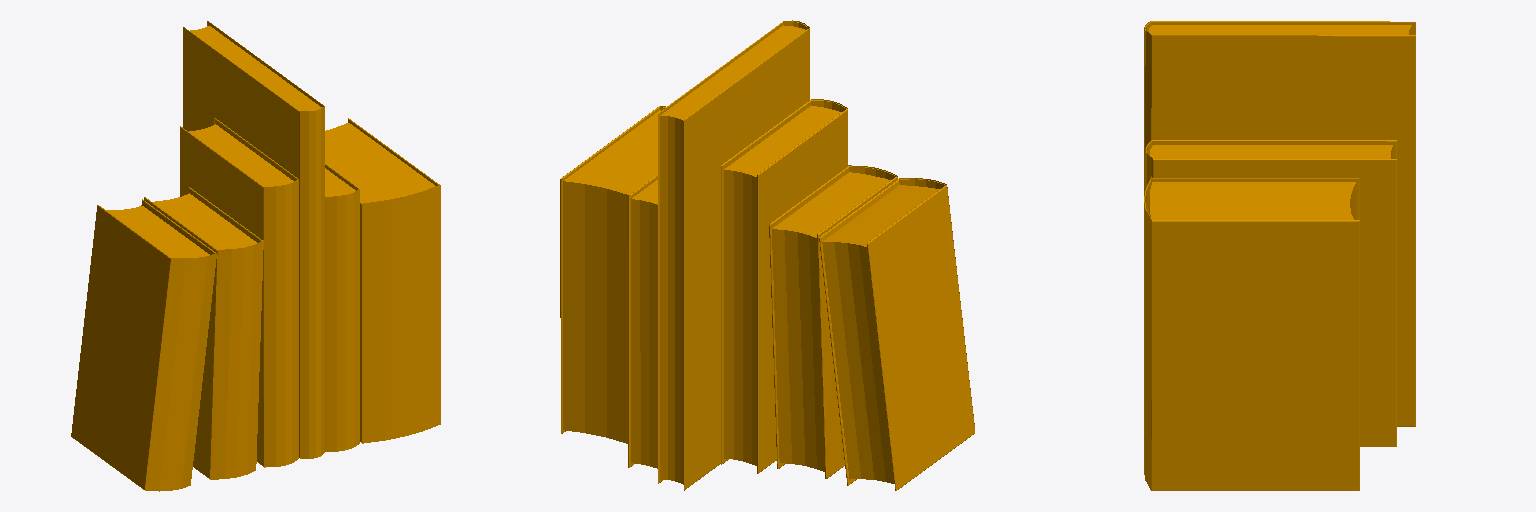
URDF robot description (none):
<robot name="none">
       <link name="none">
           <visual>
               <origin rpy="1.57 0 0" xyz="0 0 0" />
               <geometry>
                   <mesh filename="livres.obj" />
               </geometry>
           </visual>
          <collision>
              <geometry>
                  <box size="0.890186 1.000000 0.626573" />
              </geometry>
          </collision>

          <inertial>
            <mass value="0.0" />
            <inertia ixx="0.0" ixy="0.0" ixz="0.0" iyy="0.0" iyz="0.0" izz="0.0" />
          </inertial>
      </link>
  </robot>

--- Facts derived from the render (not from the file) ---
The picture shows the robot from 3 angles, left to right: view 1: azimuth 30°, elevation 25°; view 2: azimuth 150°, elevation 25°; view 3: azimuth 270°, elevation 25°; orthographic projection.
Model none with 1 links and 0 joints (none), rooted at none, posed all joints at 0.
Visible links, largest first — view 1: none; view 2: none; view 3: none.
Boxes of the visible links, x1,y1,x2,y2 form: none: (71, 21, 440, 491); none: (560, 20, 974, 490); none: (1144, 21, 1415, 490).
Size in the robot's own frame: 0.8902 by 0.6274 by 1 metres.
1 mesh visuals loaded from 1 distinct referenced files (1 OBJ).